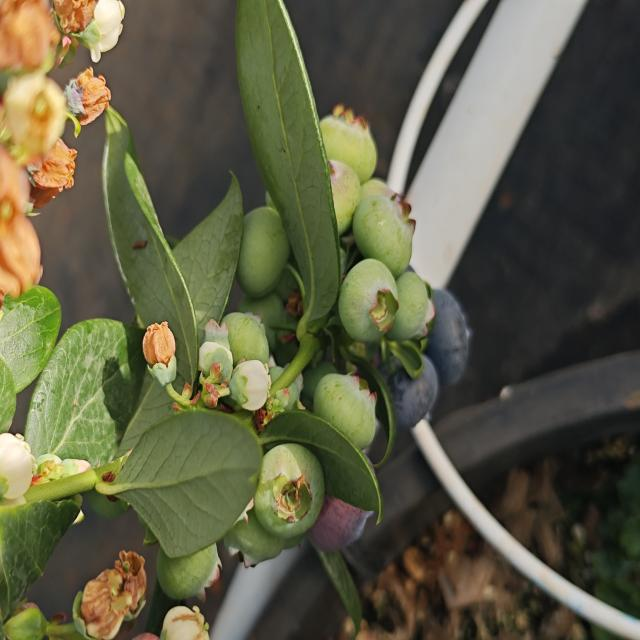ripe: (423, 286, 473, 390), (386, 351, 442, 433)
